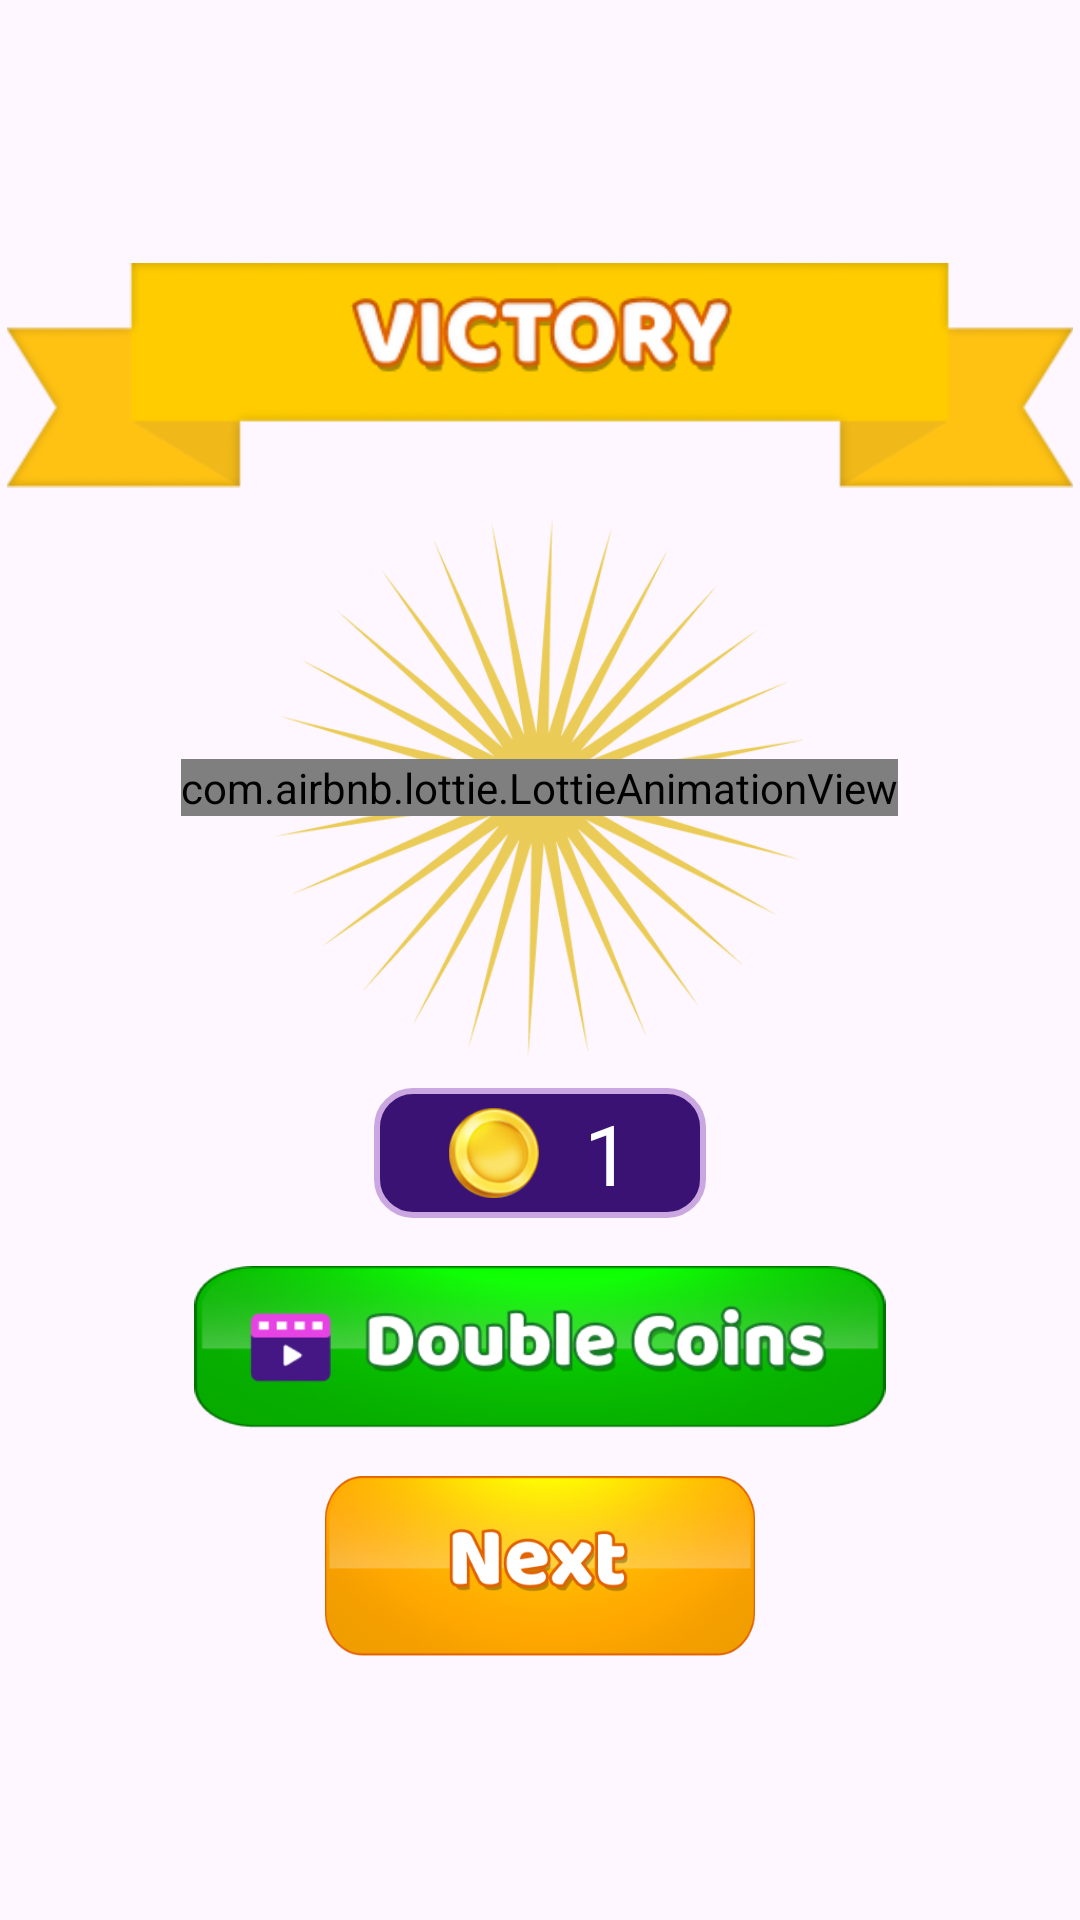

Locate icon controls on the screen. Image size 1080 x 1920, boxes as (x1=x1, y1=y1, x2=x2, y2=y2).
coin: (x1=449, y1=1108, x2=539, y2=1198)
